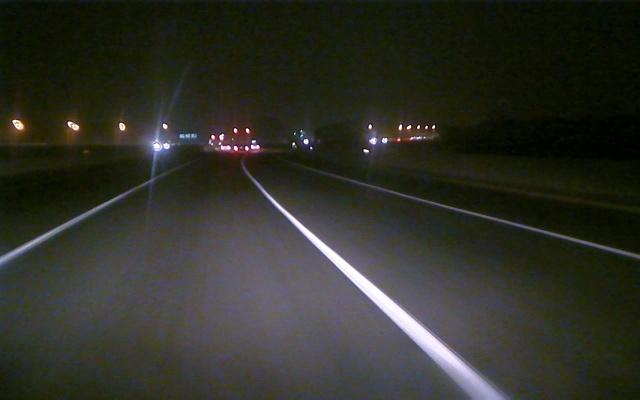lane: (254, 181, 510, 399), (345, 178, 640, 261), (1, 188, 135, 266)
